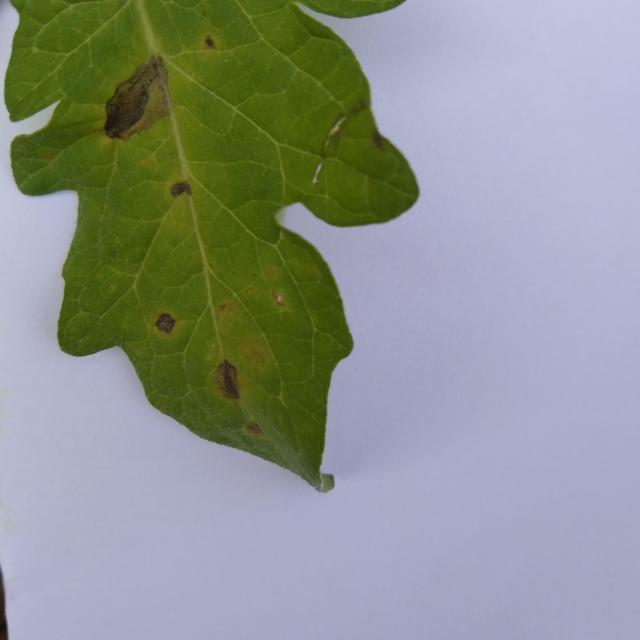Early Blight: (2, 0, 420, 492)
